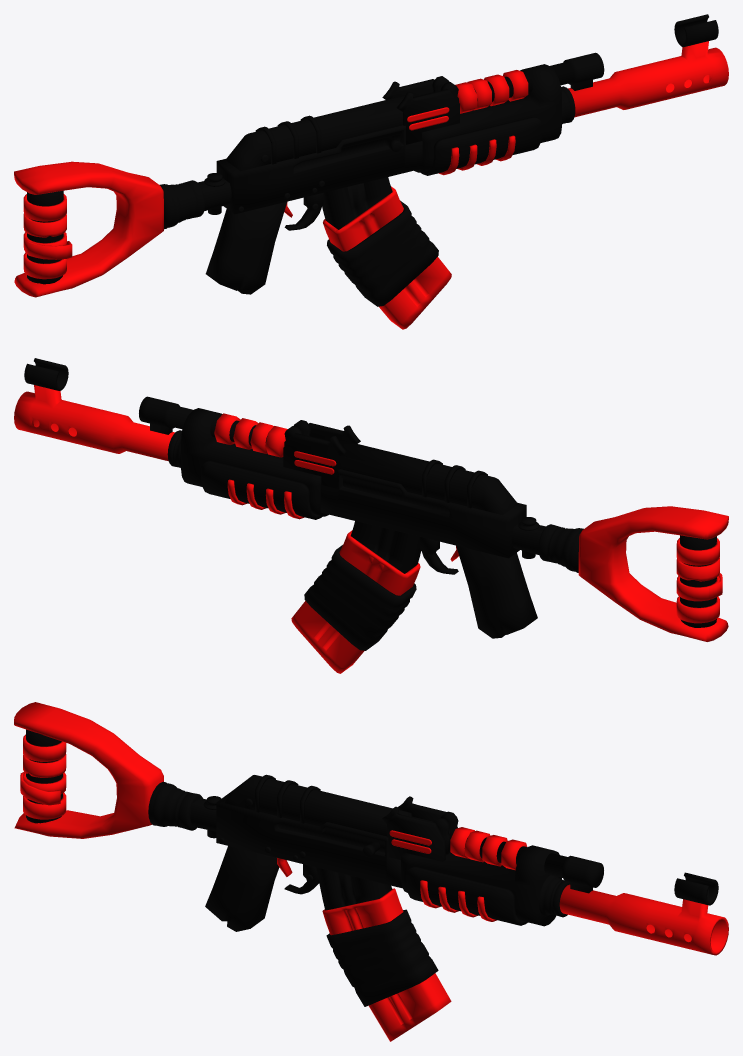
Rendered from AK47Sheen.glb.
3 renders of one model, top to bottom at view 1: azimuth 30°, elevation 25°; view 2: azimuth 150°, elevation 25°; view 3: azimuth 330°, elevation 25°, orthographic.
Visible parts, largest first — view 1: Object.003_lp; view 2: Object.003_lp; view 3: Object.003_lp.
Part boxes in pixels (<box>): Object.003_lp: <box>14,14,728,329</box>; Object.003_lp: <box>14,358,728,673</box>; Object.003_lp: <box>14,702,728,1041</box>.
Size of the model in its own units: 15.37 by 5.01 by 1.25.
Materials: 1 (1 with a texture image).
